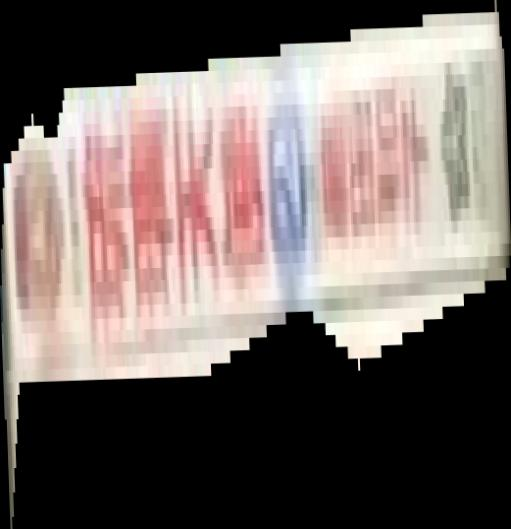flat: (1, 1, 511, 529)
